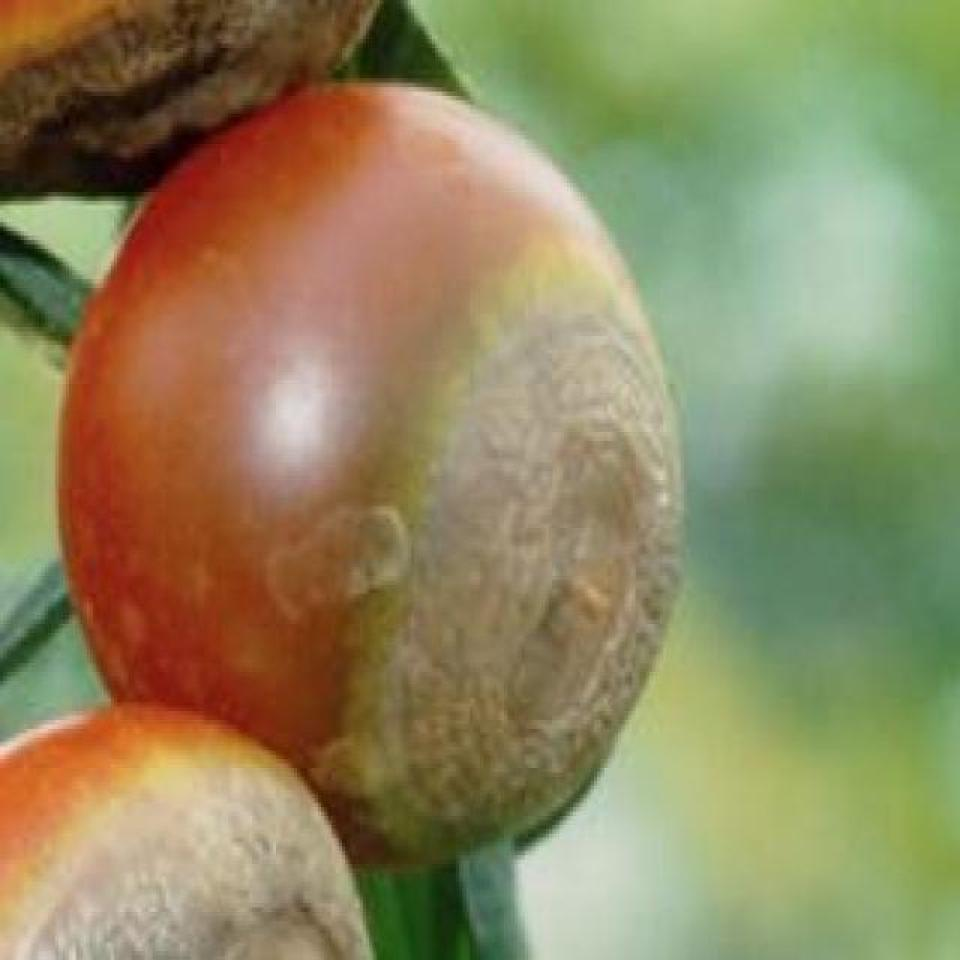Blossom_end_rot: (350, 214, 676, 842), (0, 1, 400, 198), (0, 754, 374, 956)
